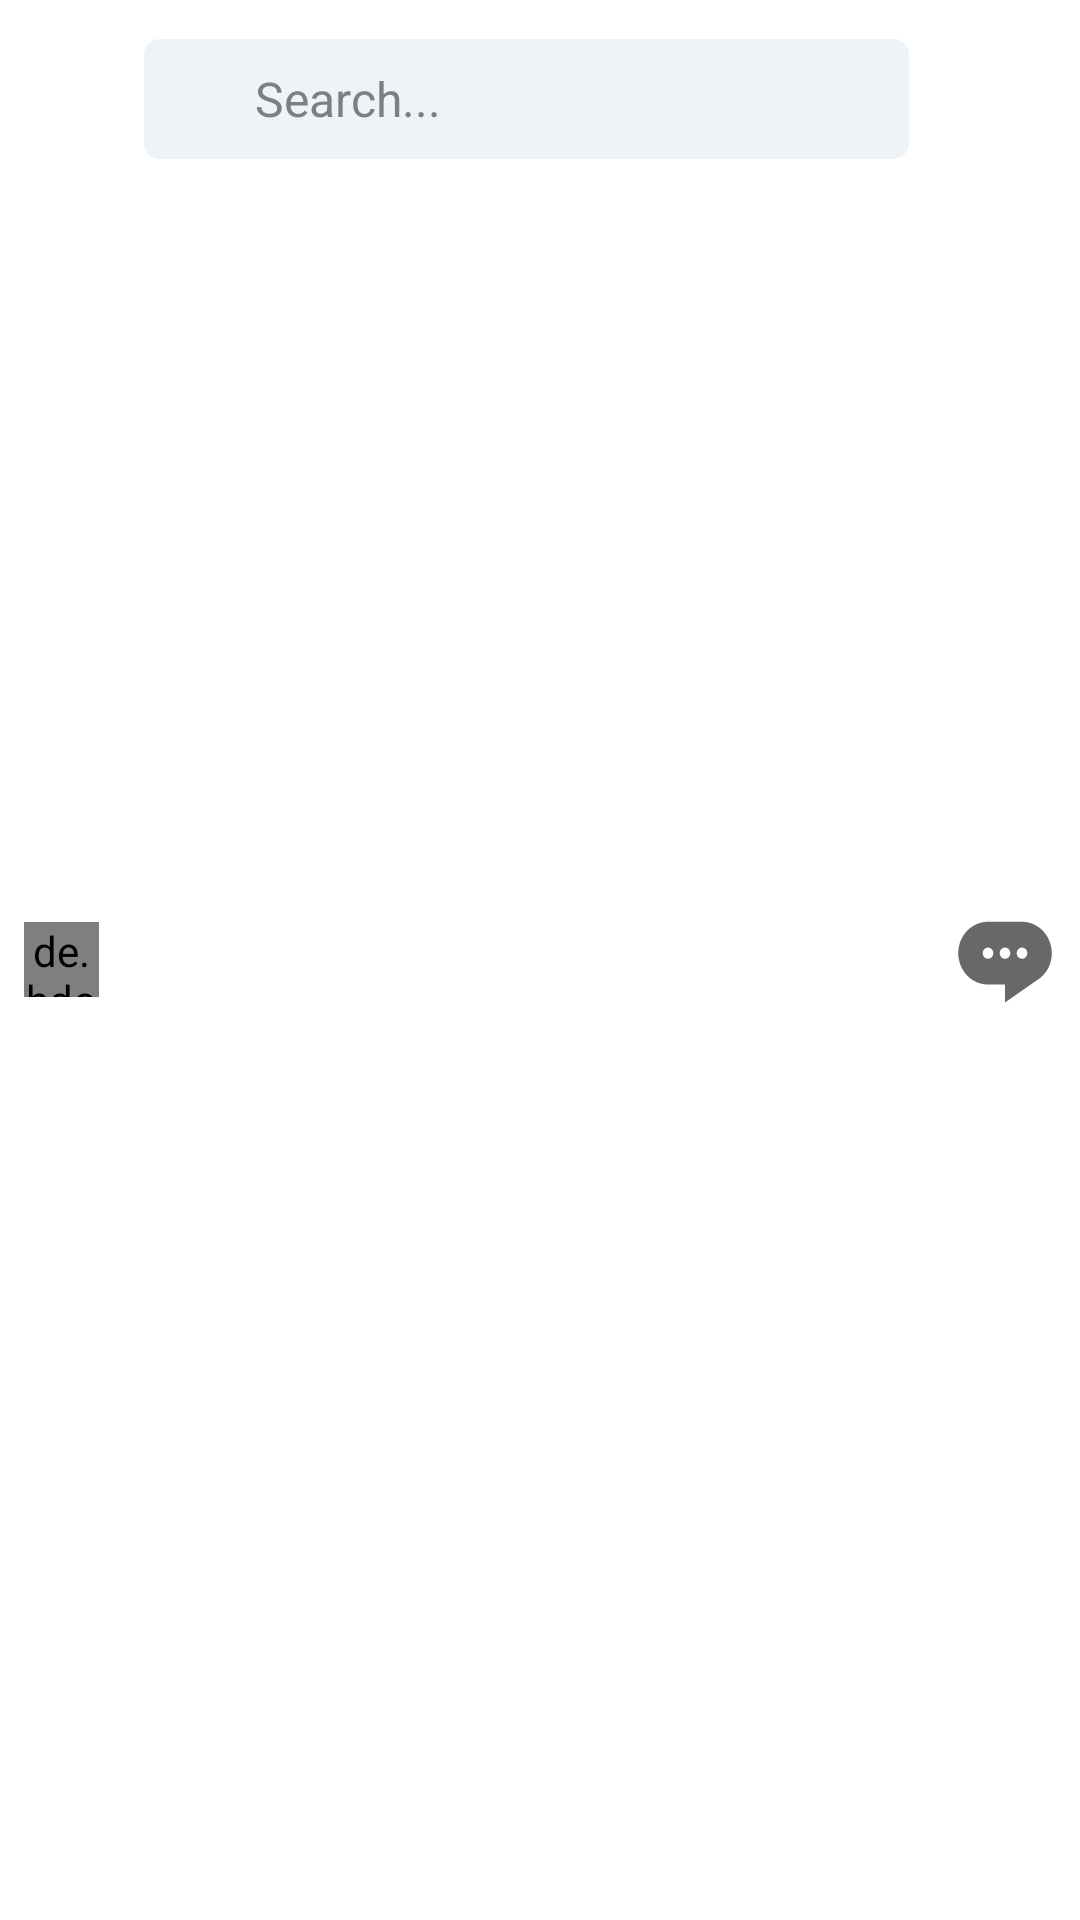

Where icons sit on this 1080px x 1920px app screen, as (x1, y1, x2, y2):
messaging: (958, 921, 1052, 1003)
